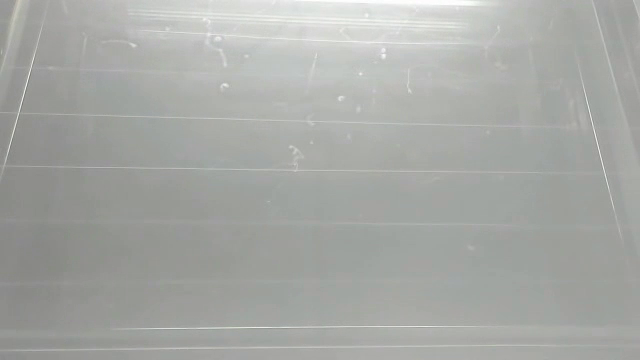alpha: (45, 65, 60, 74)
